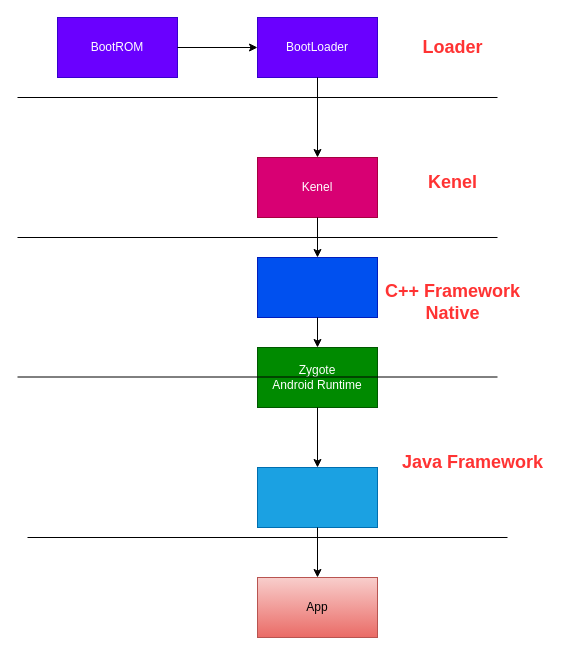
Some shapes in this 570 by 655 pixel diagram are drawn without their labels. The centre of each missing label's shape, as x and y in pixels:
"init(pid=1)" goes at (317,287).
"SystemServer" goes at (317,497).
